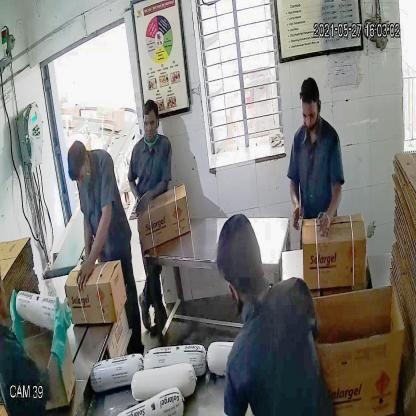no_goggles: (298, 106, 322, 123), (139, 116, 164, 132)
